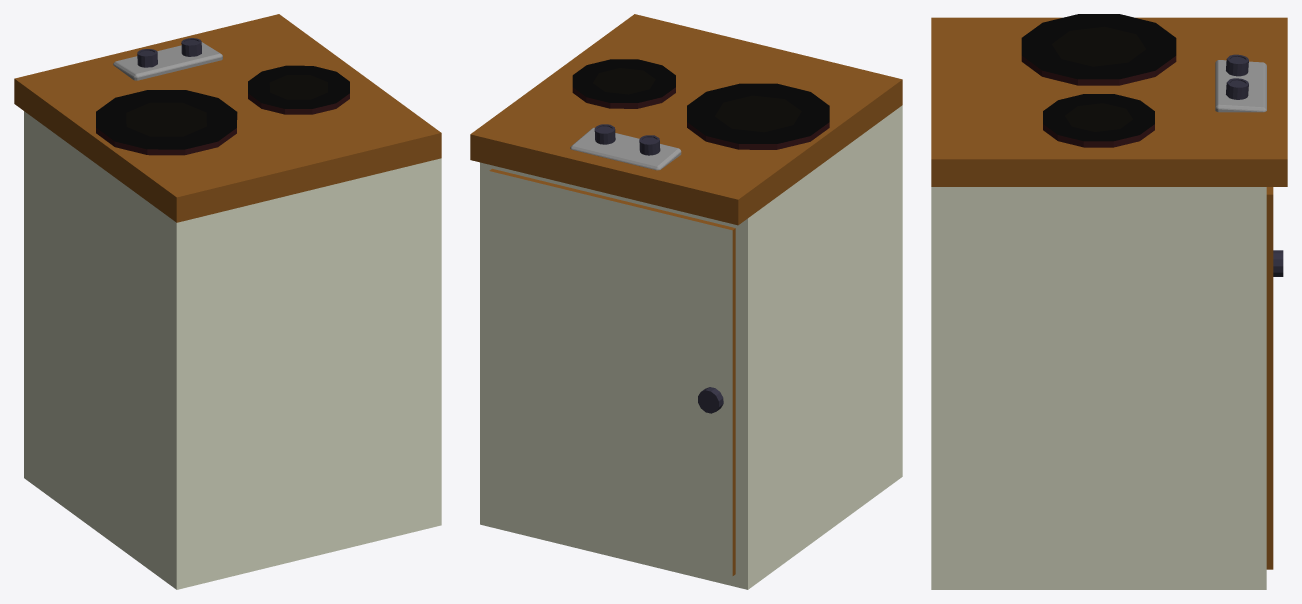
File: meuble gaziniere.fbx
3 renders of one model, left to right at view 1: azimuth 30°, elevation 25°; view 2: azimuth 150°, elevation 25°; view 3: azimuth 270°, elevation 25°, orthographic. The views are drawn at different scales.
Parts seen in each view (by area): view 1: meuble gaziniere; view 2: meuble gaziniere; view 3: meuble gaziniere.
Boxes of the visible parts, x1,y1,x2,y2 form: meuble gaziniere: (14,14,441,589); meuble gaziniere: (470,14,902,589); meuble gaziniere: (931,14,1287,589).
Size of the model in its own units: 60 by 88.52 by 63.75.
